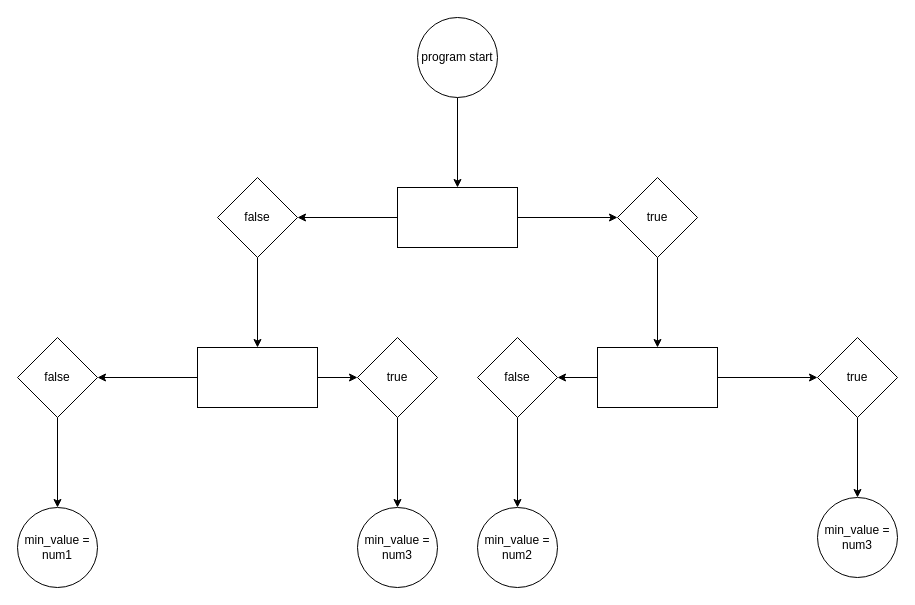
This 915x605 diagram has some shape labels left out. Here are the shapes that lost their labels. From the top down, the centre of each, then its label:
the point at 457,217: if num2<num1
the point at 257,377: if num3<num1
the point at 657,377: if num3<num2
